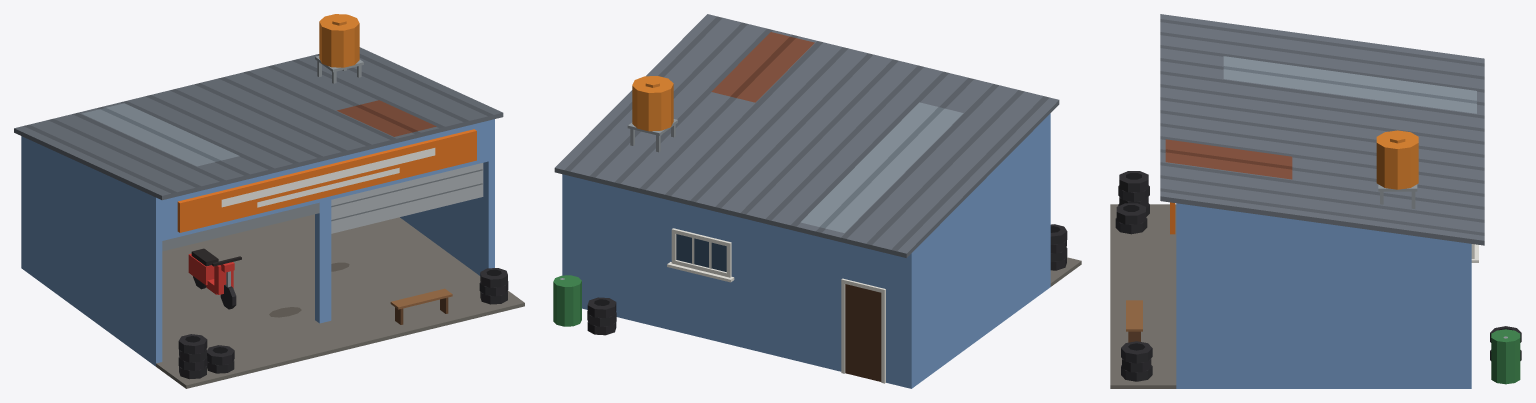
File: warung_02.glb
3 views of the same model, side by side, from view 1: azimuth 30°, elevation 25°; view 2: azimuth 150°, elevation 25°; view 3: azimuth 270°, elevation 25° (orthographic). The views are drawn at different scales.
Parts seen in each view (by area): view 1: warung_02; view 2: warung_02; view 3: warung_02.
Part boxes in pixels (<box>): warung_02: <box>14,14,524,388</box>; warung_02: <box>553,14,1081,388</box>; warung_02: <box>1110,14,1521,388</box>.
Size of the model in its own units: 8.18 by 4.67 by 7.8.
